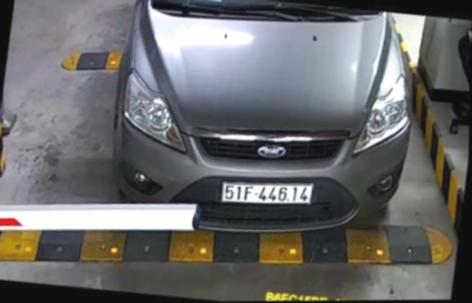License_Plate: (220, 175, 313, 211)
